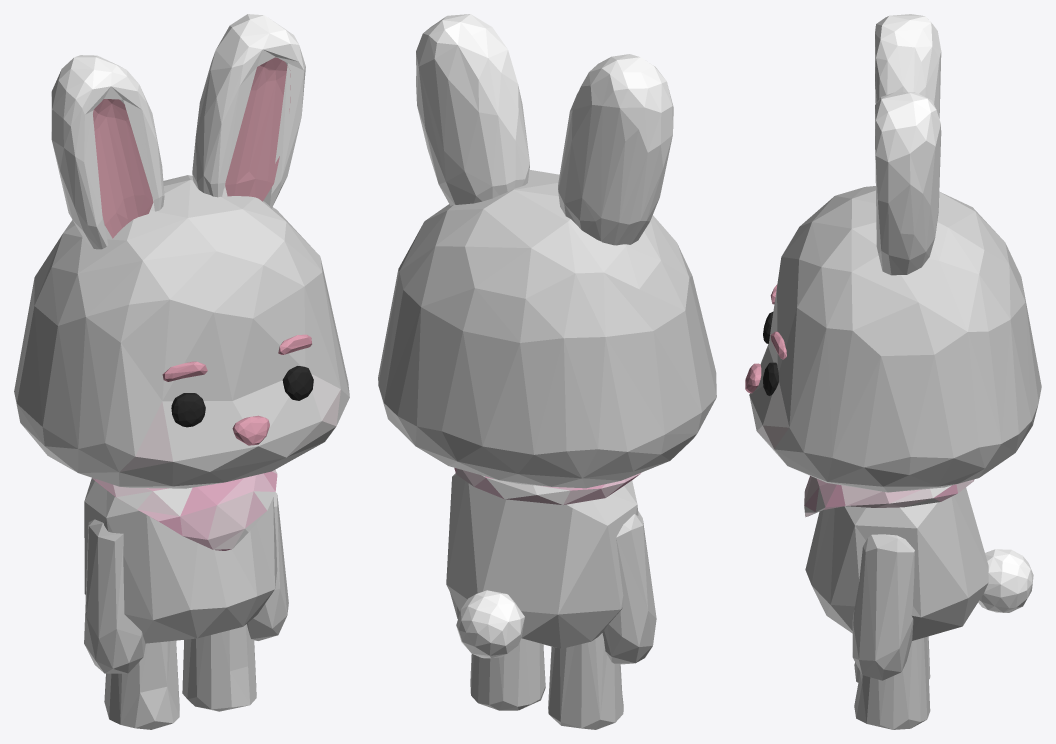
The model's file is bunny2.obj.
The picture shows the model from 3 angles, left to right: view 1: azimuth 30°, elevation 25°; view 2: azimuth 150°, elevation 25°; view 3: azimuth 270°, elevation 25°; orthographic projection. The views are drawn at different scales.
Visible parts, largest first — view 1: bunny2; view 2: bunny2; view 3: bunny2.
Boxes of the visible parts, x1,y1,x2,y2 form: bunny2: [14, 14, 349, 729]; bunny2: [378, 14, 716, 729]; bunny2: [745, 14, 1041, 729].
Bounding box in the file's own units: 5.49 × 12 × 4.99.
